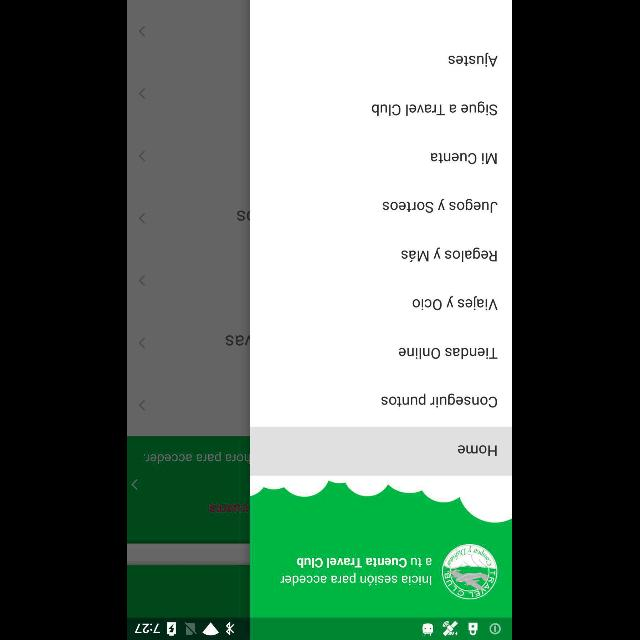image: (442, 542, 500, 600)
panel: (251, 0, 513, 618)
text: (281, 556, 434, 586), (372, 101, 498, 117), (382, 394, 498, 408), (384, 198, 498, 212), (402, 246, 498, 262), (413, 295, 499, 311), (399, 346, 499, 359), (430, 152, 498, 164), (448, 53, 499, 67), (458, 445, 498, 457)
uppertaskbar: (128, 617, 512, 639)
